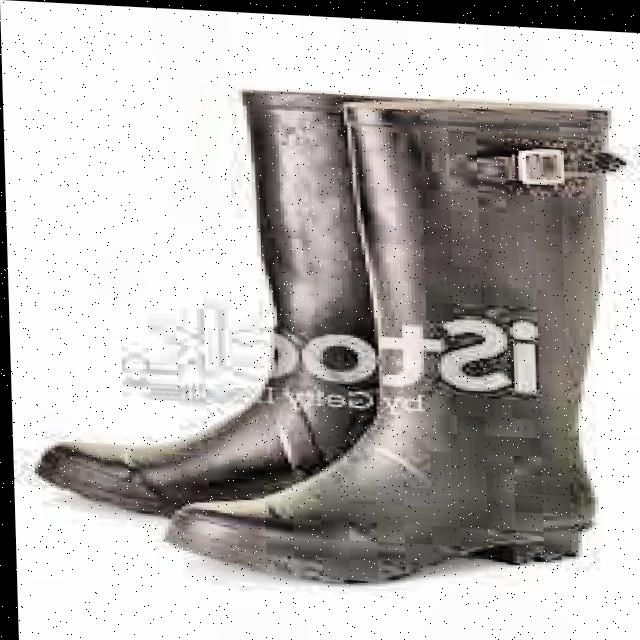shoes: (26, 54, 640, 602)
